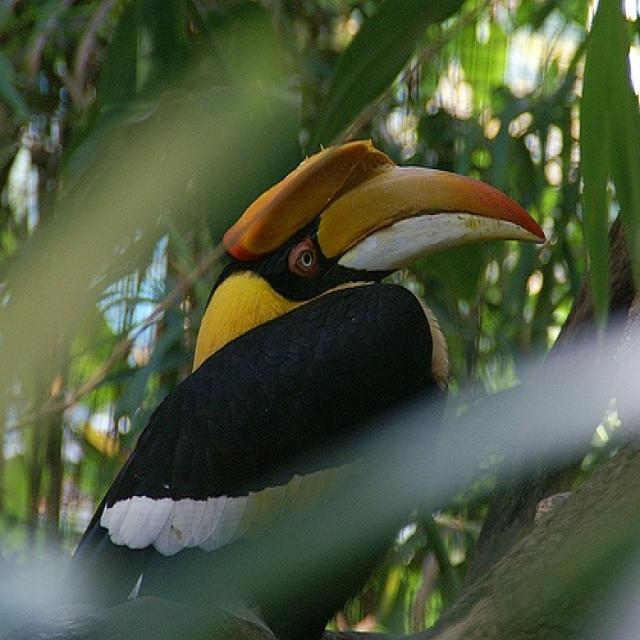bird: (64, 139, 547, 604)
